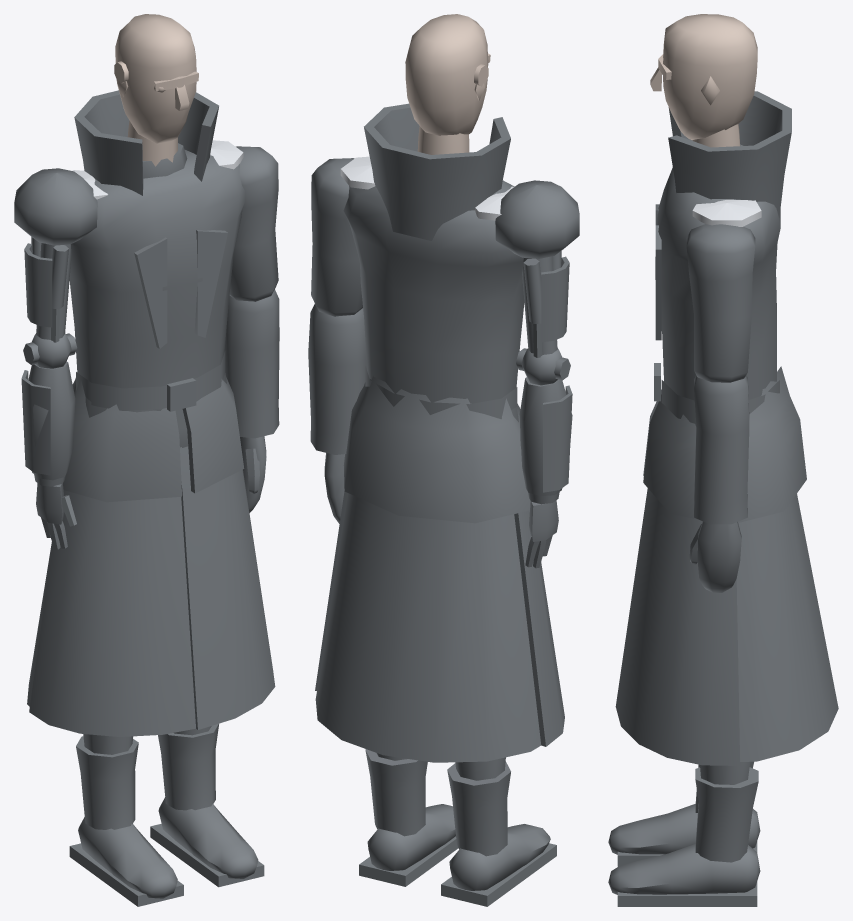
File: henrik2.glb
3 renders of one model, left to right at view 1: azimuth 30°, elevation 25°; view 2: azimuth 150°, elevation 25°; view 3: azimuth 270°, elevation 25°, orthographic. The views are drawn at different scales.
Visible parts, largest first — view 1: torso, coat_r, coat_l, skirt, shin_r, shin_l, head, arm_r, forearm_r, forearm_l, arm_l, snow (+3 smaller); view 2: coat_back, torso, skirt, shin_r, head, arm_r, shin_l, forearm_r, forearm_l, arm_l, coat_r, snow (+1 smaller); view 3: coat_l, torso, coat_back, shin_l, skirt, head, forearm_l, arm_l, shin_r, snow.
Part boxes in pixels (box(x1,y1,x2,y2)): torso: box(69, 90, 245, 411); coat_r: box(29, 447, 195, 736); coat_l: box(180, 446, 275, 729); skirt: box(63, 377, 244, 502); shin_r: box(69, 734, 183, 906); shin_l: box(150, 723, 264, 887); head: box(114, 14, 198, 166); arm_r: box(14, 168, 97, 342); forearm_r: box(21, 333, 77, 549); forearm_l: box(224, 289, 279, 512); arm_l: box(229, 146, 278, 301); snow: box(72, 140, 243, 199); coat_back: box(315, 493, 541, 762); torso: box(343, 103, 524, 418); skirt: box(343, 376, 530, 523); shin_r: box(441, 757, 556, 906); head: box(405, 14, 490, 154); arm_r: box(495, 180, 579, 357); shin_l: box(359, 749, 458, 886); forearm_r: box(516, 348, 572, 568); forearm_l: box(308, 304, 366, 523); arm_l: box(311, 158, 362, 316); coat_r: box(514, 510, 564, 746); snow: box(340, 156, 513, 220); coat_l: box(615, 488, 740, 765); torso: box(654, 91, 791, 423); coat_back: box(736, 494, 838, 761); shin_l: box(608, 761, 760, 906); skirt: box(643, 366, 806, 522); head: box(650, 14, 757, 147); forearm_l: box(689, 375, 749, 592); arm_l: box(686, 224, 755, 382); shin_r: box(608, 761, 760, 866); snow: box(692, 199, 761, 226).
Size of the model in its own units: 0.5863 by 1.85 by 0.4507.
